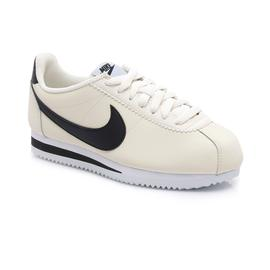nike: (39, 96, 128, 152)
